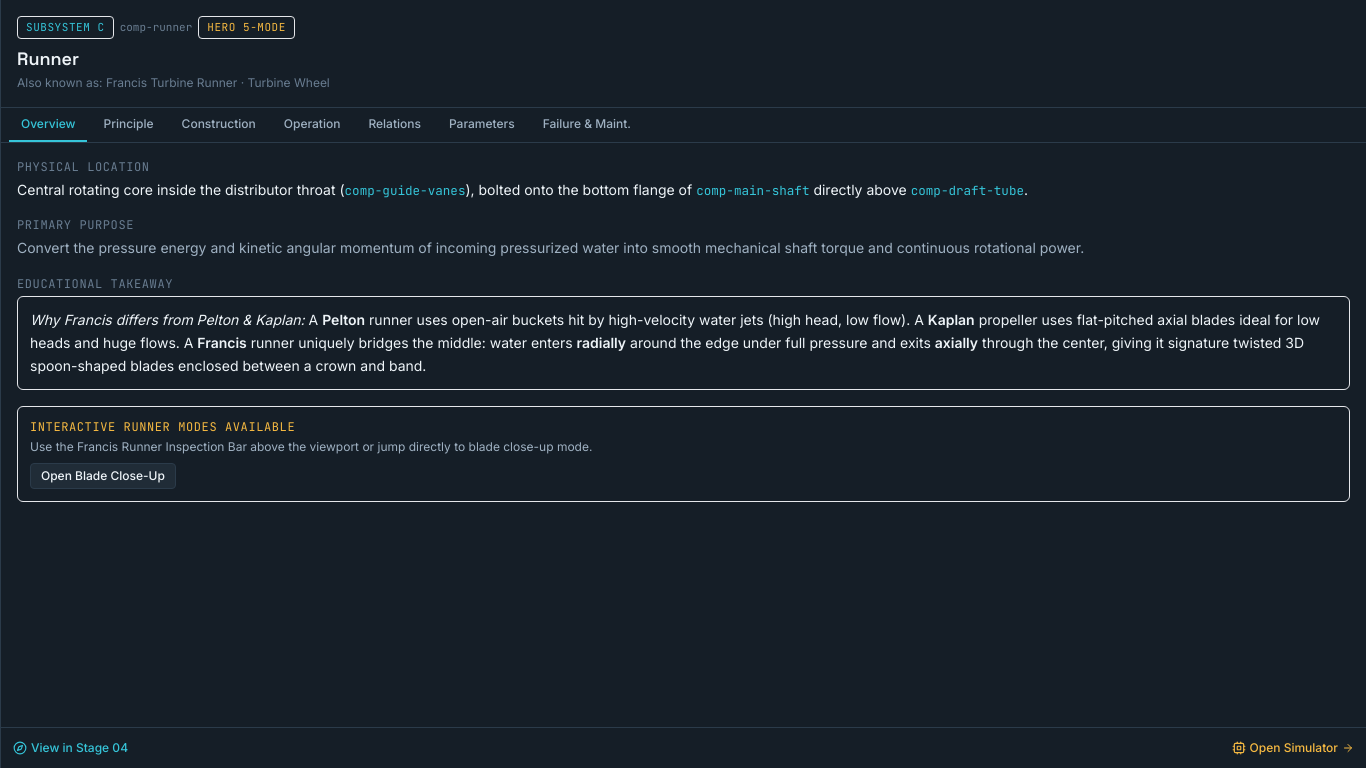
Plant Anatomy Workspace › renders all 7 inspector tabs and navigates upstream/downstream relations
The image size is (1366, 768).
Expected: the heading "Runner" is shown, [17,46,79,70]
Click the tab "Parameters" at (482, 124), box [437,108,527,142]
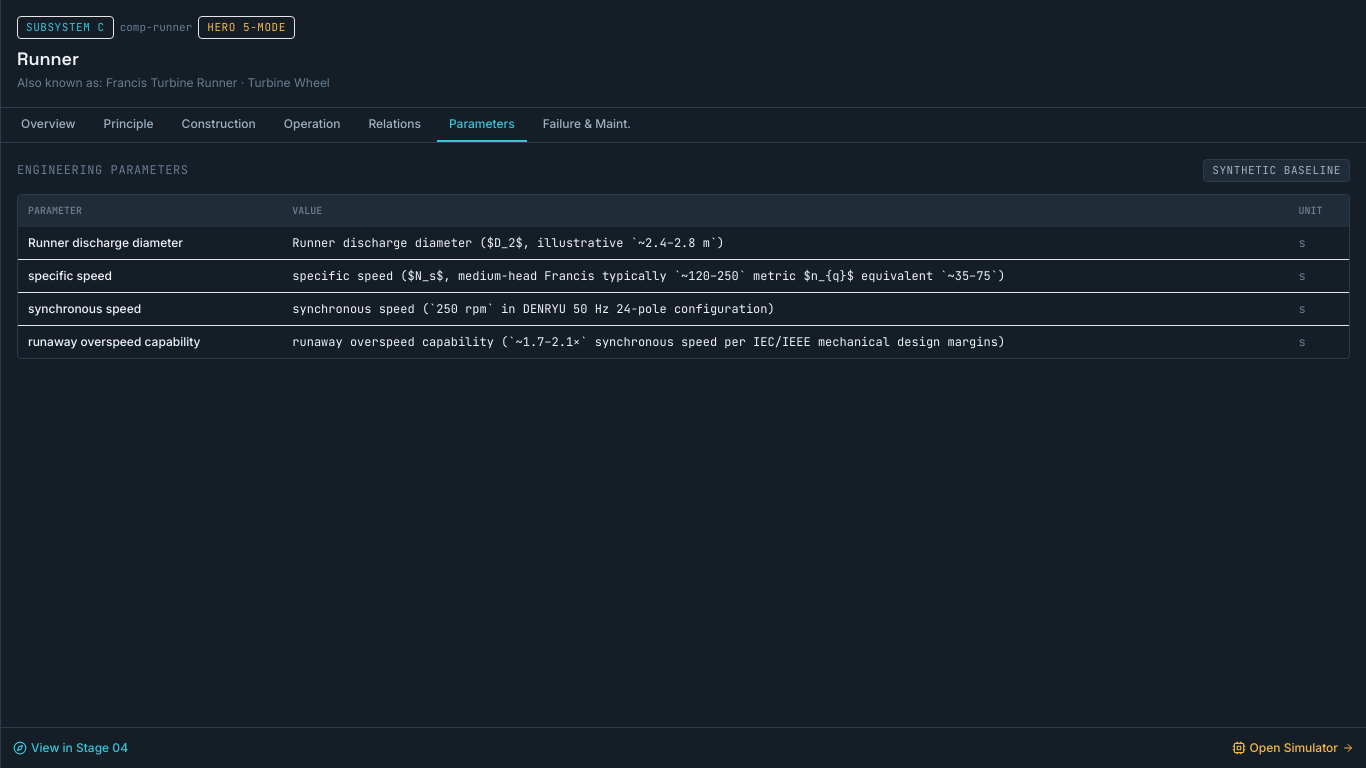
Expected: the text "Synthetic Baseline" is shown, [1203,158,1350,182]
Click the tab "Failure & Maint." at (587, 124), box [531,108,643,142]
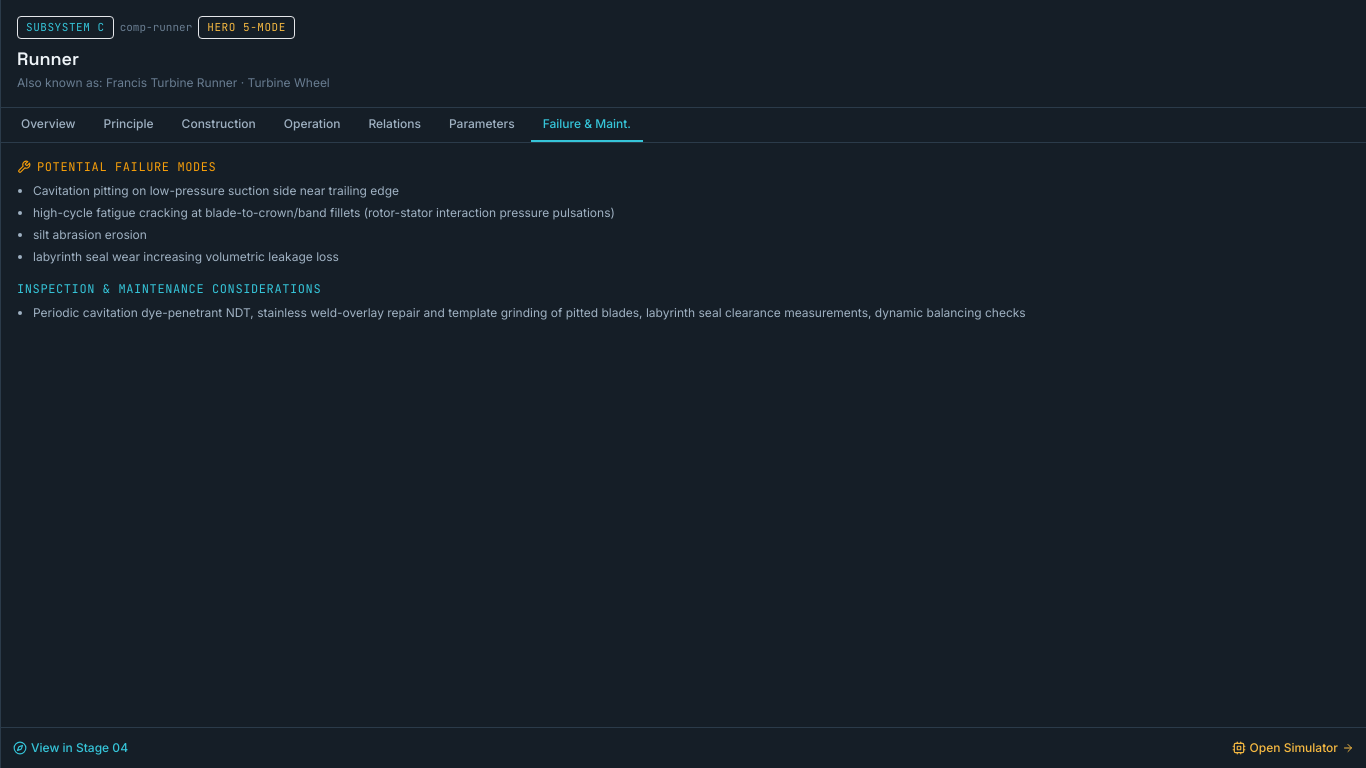
Expected: the heading "Potential Failure Modes" is shown, [17,158,216,174]
Click the tab "Relations" at (395, 124), box [356,108,433,142]
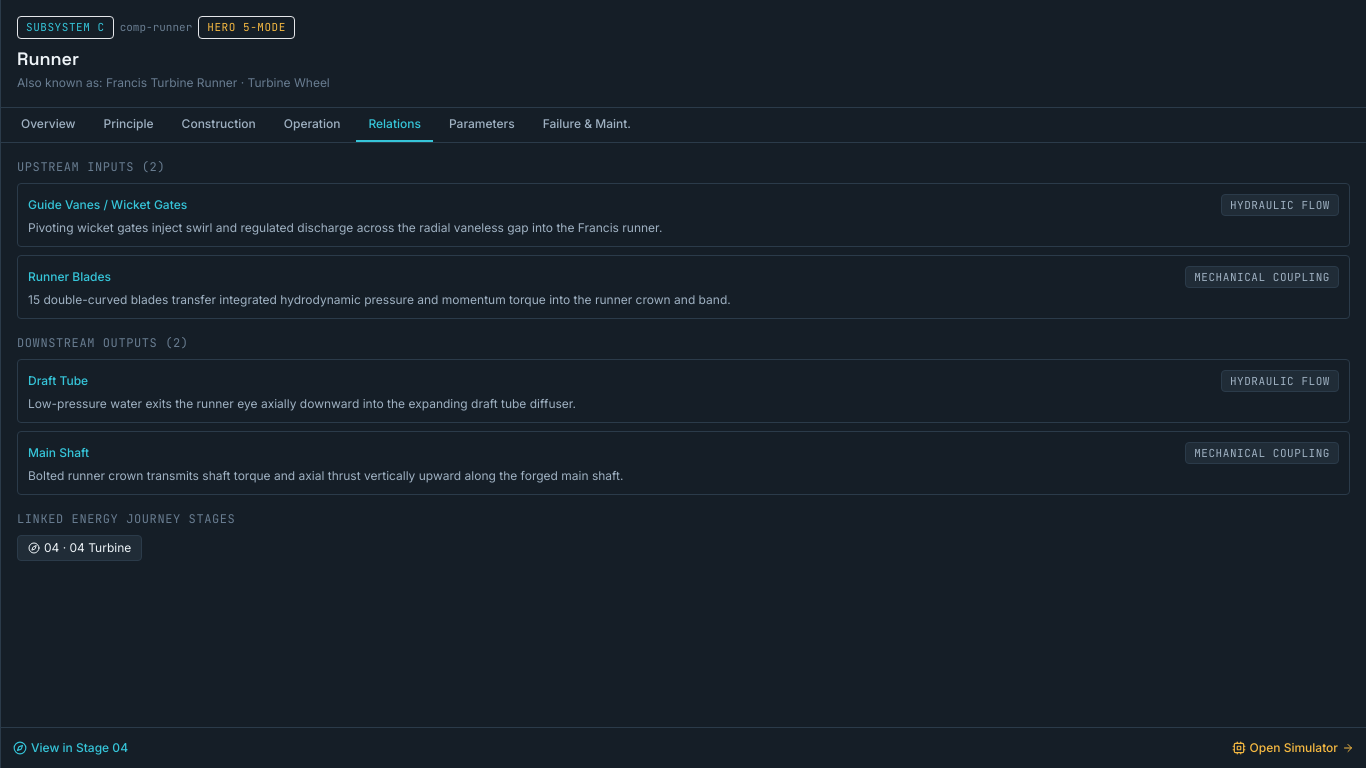
Expected: the button "Guide Vanes / Wicket Gates" is shown
Click the button "Guide Vanes / Wicket Gates" at (108, 204), box [28,196,187,212]
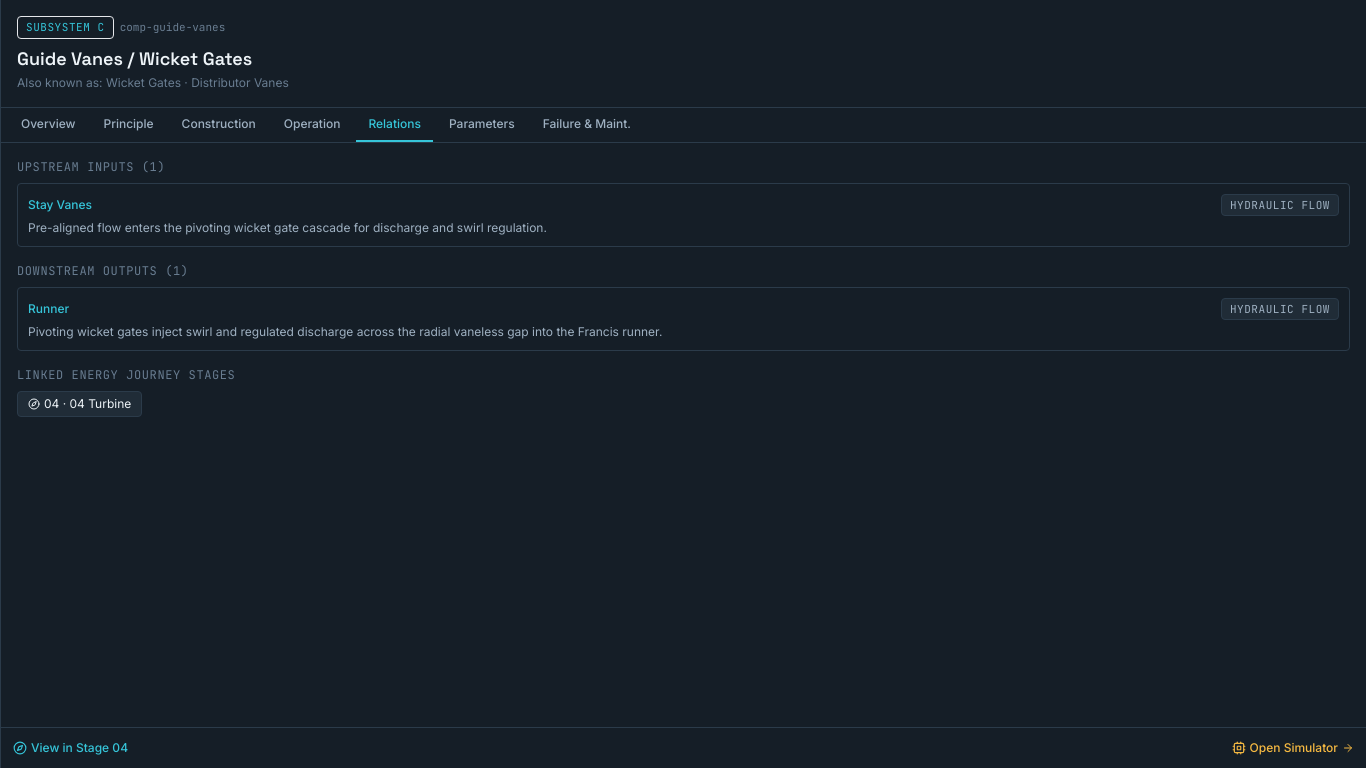
Expected: the text "comp-guide-vanes" is shown, [120,19,225,36]
